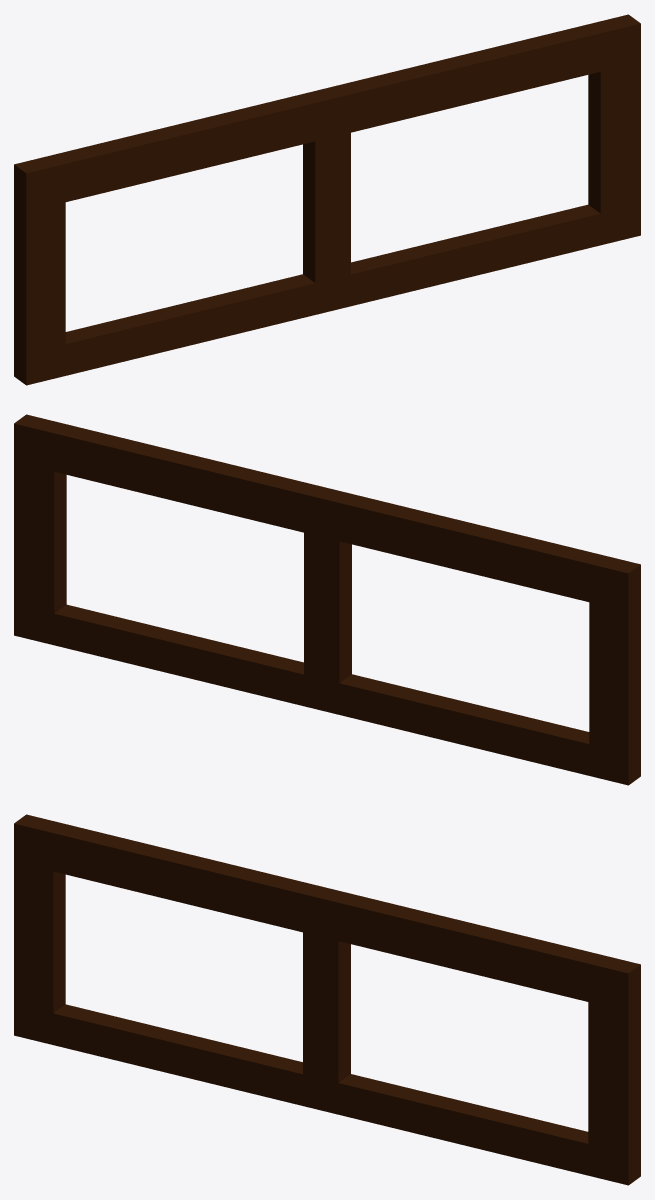
Rendered from reja4.fbx.
3 renders of one model, top to bottom at view 1: azimuth 30°, elevation 25°; view 2: azimuth 150°, elevation 25°; view 3: azimuth 330°, elevation 25°, orthographic.
Visible parts, largest first — view 1: Cube.014; view 2: Cube.014; view 3: Cube.014.
Part boxes in pixels (box(x1,y1,x2,y2)): Cube.014: box(14, 14, 640, 385); Cube.014: box(14, 414, 640, 785); Cube.014: box(14, 814, 640, 1185).
Size of the model in its own units: 1791 by 591 by 62.56.
